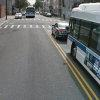Bus: (66, 3, 100, 81)
